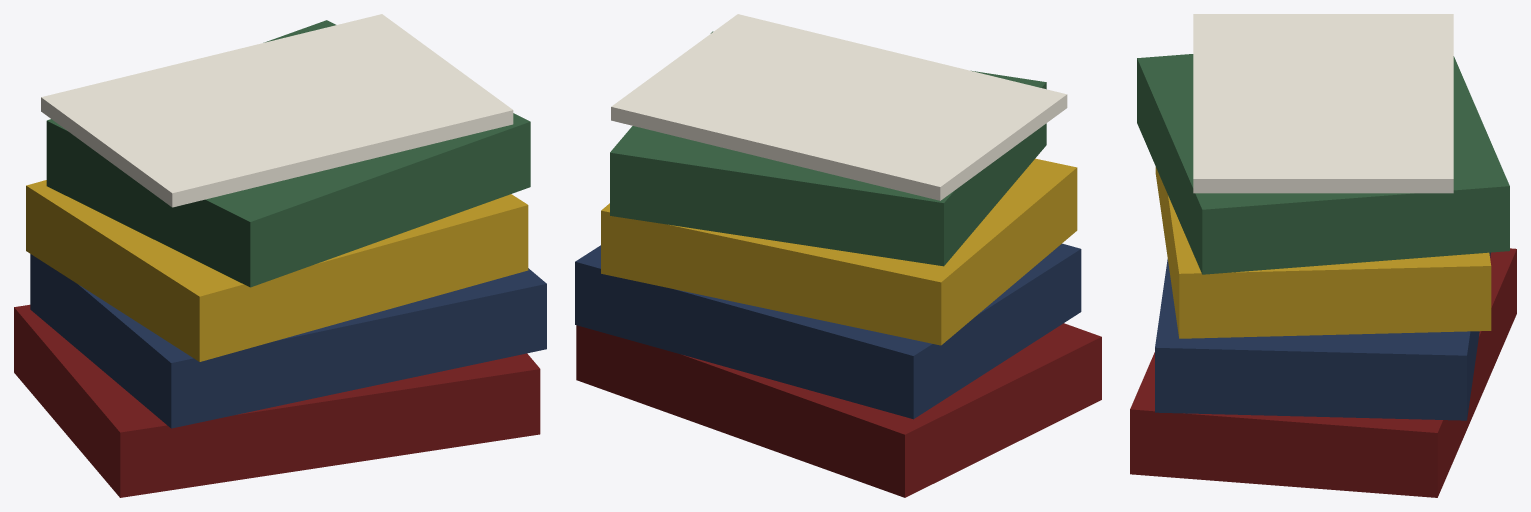
The model's file is decor_ancient_0.glb.
3 views of the same model, side by side, from view 1: azimuth 30°, elevation 25°; view 2: azimuth 150°, elevation 25°; view 3: azimuth 270°, elevation 25° (orthographic). The views are drawn at different scales.
Size of the model in its own units: 0.3775 by 0.252 by 0.297.
